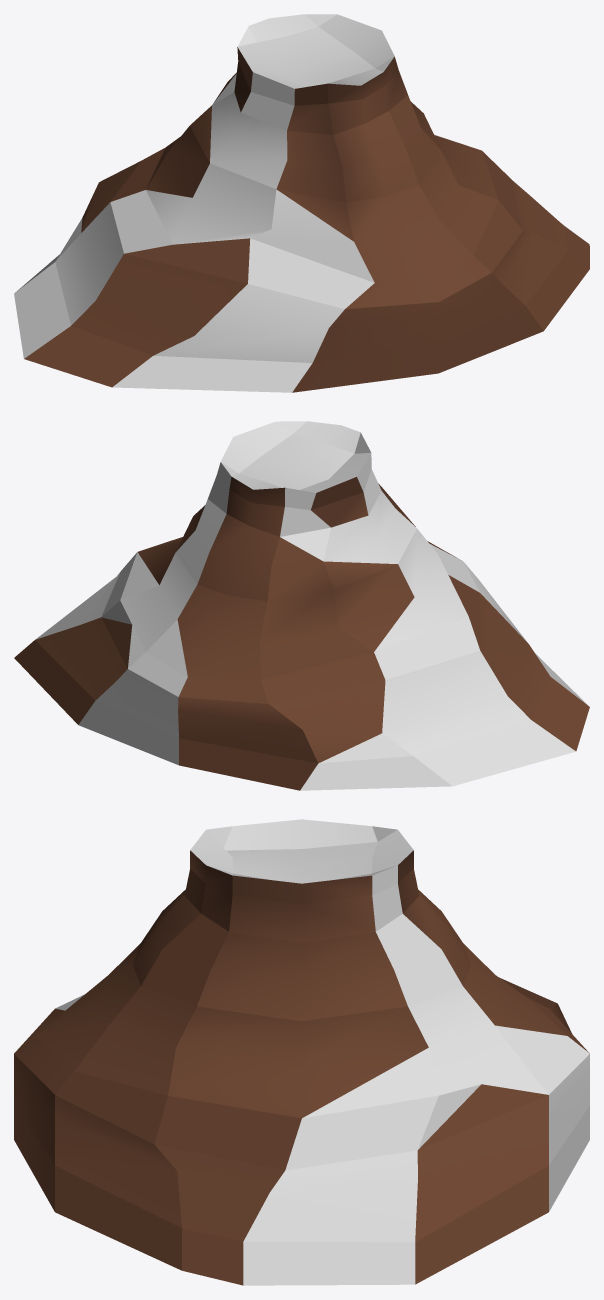
File: volcano_01_active.fbx
The picture shows the model from 3 angles, top to bottom: view 1: azimuth 30°, elevation 25°; view 2: azimuth 150°, elevation 25°; view 3: azimuth 270°, elevation 25°; orthographic projection. The views are drawn at different scales.
Visible parts, largest first — view 1: volcano_01_body, volcano_01_lava; view 2: volcano_01_body, volcano_01_lava; view 3: volcano_01_body, volcano_01_lava.
Boxes of the visible parts, x1=… form: volcano_01_body: x1=24, y1=47, x2=589, y2=392; volcano_01_lava: x1=14, y1=14, x2=584, y2=392; volcano_01_body: x1=14, y1=476, x2=589, y2=790; volcano_01_lava: x1=35, y1=421, x2=588, y2=790; volcano_01_body: x1=14, y1=850, x2=589, y2=1285; volcano_01_lava: x1=55, y1=819, x2=589, y2=1285.
Bounding box in the file's own units: 7511 × 3193 × 5689.
